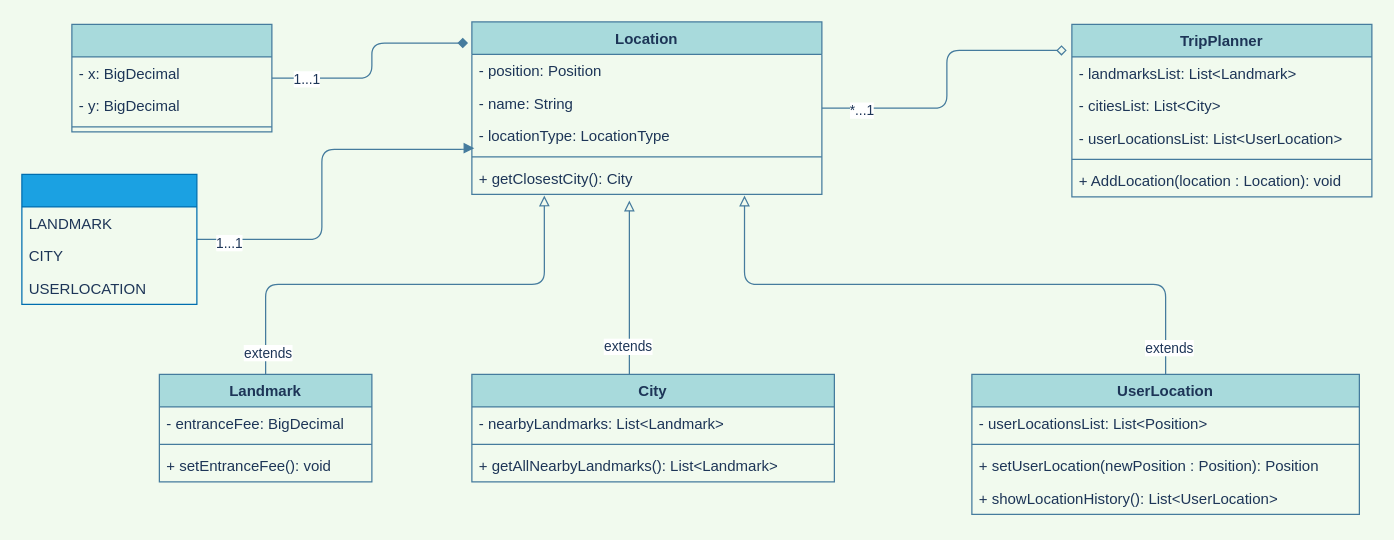
Some shapes in this 1394 by 540 pixel diagram are drawn without their labels. Each missing label, with the box of its shape:
LocationType: (21, 173, 197, 304)
Position: (71, 23, 272, 132)
